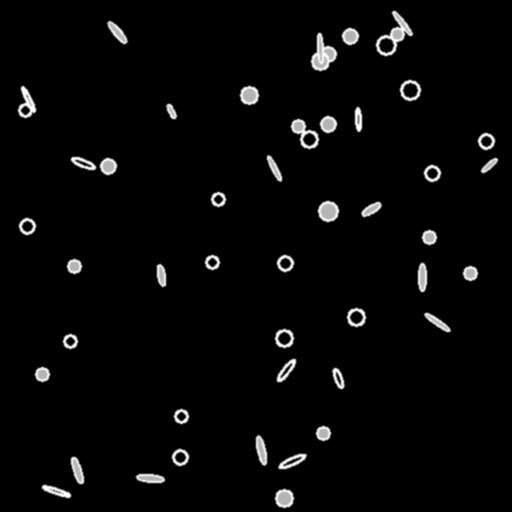pseudomonas: (391, 10, 413, 36), (106, 19, 128, 45), (275, 358, 297, 382), (424, 312, 450, 332), (278, 452, 306, 470), (20, 86, 36, 112), (266, 155, 282, 181), (42, 484, 70, 498), (254, 436, 268, 464), (71, 155, 95, 171), (70, 457, 84, 483), (361, 201, 381, 217), (480, 157, 498, 173), (332, 368, 344, 388), (137, 474, 163, 482), (156, 265, 166, 285), (165, 103, 177, 119), (317, 34, 323, 62), (419, 264, 425, 291), (355, 108, 361, 130)
synechocystis: (377, 36, 395, 54), (401, 81, 419, 99), (319, 202, 337, 220), (301, 131, 317, 147), (276, 490, 292, 506), (241, 87, 257, 103), (348, 309, 364, 325), (276, 330, 292, 346), (312, 53, 328, 69), (278, 256, 292, 270), (343, 29, 357, 43), (173, 450, 187, 464), (479, 134, 493, 148), (101, 159, 115, 173), (425, 166, 439, 180), (321, 117, 335, 131), (321, 47, 335, 61), (20, 219, 34, 233), (68, 260, 80, 272), (292, 120, 304, 132), (36, 368, 48, 380), (212, 193, 224, 205), (206, 256, 218, 268), (423, 231, 435, 243), (317, 427, 329, 439), (175, 410, 187, 422), (391, 28, 403, 40), (464, 267, 476, 279), (19, 104, 31, 116), (64, 335, 76, 347)
